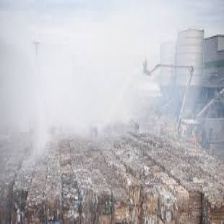smoke: (32, 49, 146, 138)
